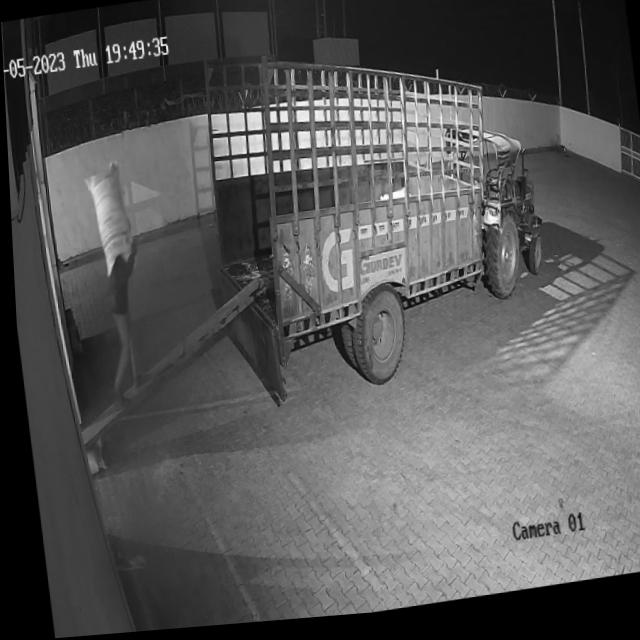sack: (81, 160, 134, 280)
